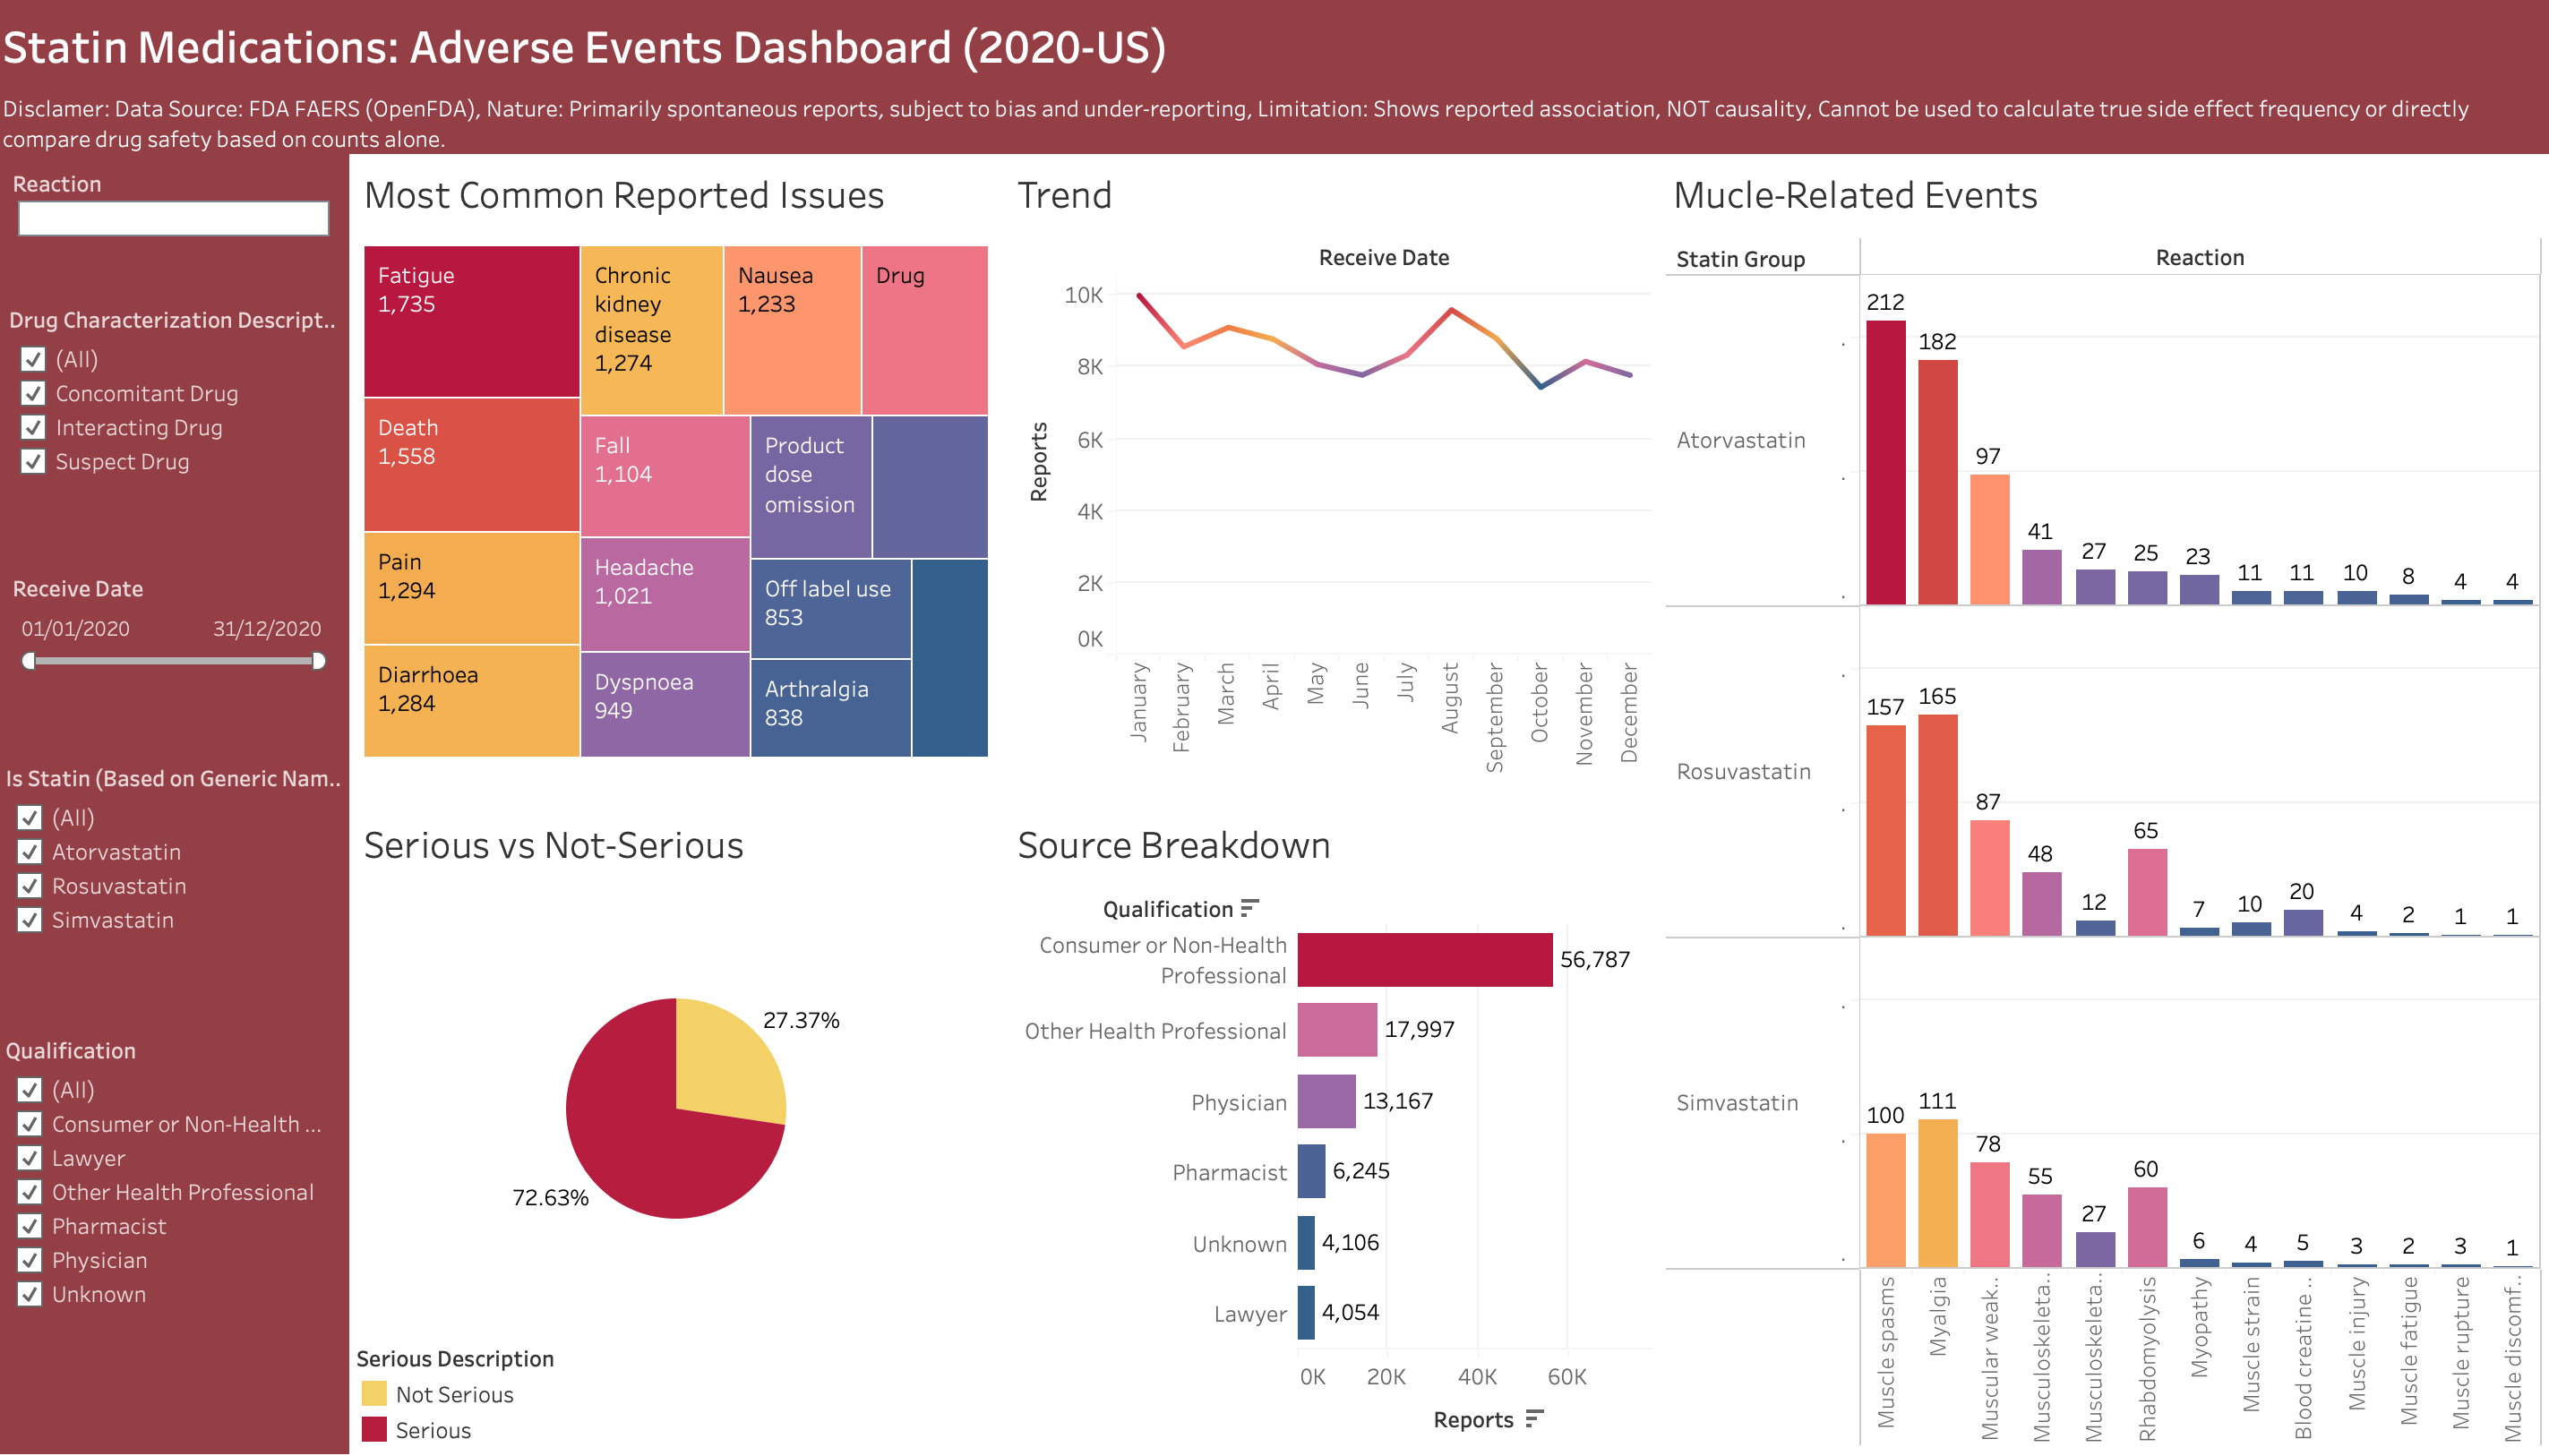

The dashboard page shown, as its layout file describes it:
{"tool":"tableau","page":{"name":"Dashboard 1","canvas":[1000,1000],"units":"permille","ordinal":0},"visuals":[{"type":"title","box":[6.6,11.4,986.8,77.1]},{"type":"text","box":[6.6,88.6,986.8,48.6]},{"type":"filter","title":"Most Common Reported Issues","param":"[federated.0z584by1qv8k3h11t4nj408zaubz].[none:reaction:nk]","box":[6.6,137.1,136.1,91.3]},{"type":"worksheet","title":"Most Common Reported Issues","mark":"Automatic","box":[142.7,137.1,252.7,425.6]},{"type":"worksheet","title":"Trend","mark":"Automatic","rows":["Calculation_1427711453997498368"],"cols":["receive_date"],"box":[395.4,137.1,253.7,425.6]},{"type":"worksheet","title":"Mucle-Related Events","mark":"Automatic","rows":["Calculation_2219500564527845376","Calculation_1427711453997498368"],"cols":["reaction"],"box":[649.1,137.1,344.3,851.4]},{"type":"filter","title":"Most Common Reported Issues","param":"[federated.0z584by1qv8k3h11t4nj408zaubz].[none:drug_characterization_description","box":[6.6,228.5,136.1,174.3]},{"type":"filter","title":"Most Common Reported Issues","param":"[federated.0z584by1qv8k3h11t4nj408zaubz].[none:receive_date:qk]","box":[6.6,402.8,136.1,128.6]},{"type":"filter","title":"Most Common Reported Issues","param":"[federated.0z584by1qv8k3h11t4nj408zaubz].[none:Calculation_4216706262604722176:n","box":[6.6,531.4,136.1,178.6]},{"type":"worksheet","title":"Serious vs Not-Serious","mark":"Pie","box":[142.7,562.7,252.7,331.6]},{"type":"worksheet","title":"Source Breakdown","mark":"Automatic","rows":["Calculation_1530942401727475712"],"cols":["Calculation_1427711453997498368"],"box":[395.4,562.7,253.7,425.9]},{"type":"filter","title":"Source Breakdown","param":"[federated.0z584by1qv8k3h11t4nj408zaubz].[none:Calculation_1530942401727475712:n","box":[6.6,710,136.1,278.6]},{"type":"legend","title":"Serious vs Not-Serious","param":"[federated.0z584by1qv8k3h11t4nj408zaubz].[none:serious_description:nk]","box":[142.7,894.3,252.7,94.3]}]}

Visuals, with their boxes on the dashboard's canvas, which has no fixed pixel size, in thousandths of its width and height (x1, y1, x2, y2). These are canvas units, not pixel positions in the 2549x1456 screenshot, which may show the page scaled, cropped or inside an application window:
title: detection(7, 11, 993, 88)
text: detection(7, 89, 993, 137)
"Most Common Reported Issues" filter: detection(7, 137, 143, 228)
"Most Common Reported Issues" worksheet: detection(143, 137, 395, 563)
"Trend" worksheet: detection(395, 137, 649, 563)
"Mucle-Related Events" worksheet: detection(649, 137, 993, 988)
"Most Common Reported Issues" filter: detection(7, 228, 143, 403)
"Most Common Reported Issues" filter: detection(7, 403, 143, 531)
"Most Common Reported Issues" filter: detection(7, 531, 143, 710)
"Serious vs Not-Serious" worksheet (Pie marks): detection(143, 563, 395, 894)
"Source Breakdown" worksheet: detection(395, 563, 649, 989)
"Source Breakdown" filter: detection(7, 710, 143, 989)
"Serious vs Not-Serious" legend: detection(143, 894, 395, 989)
